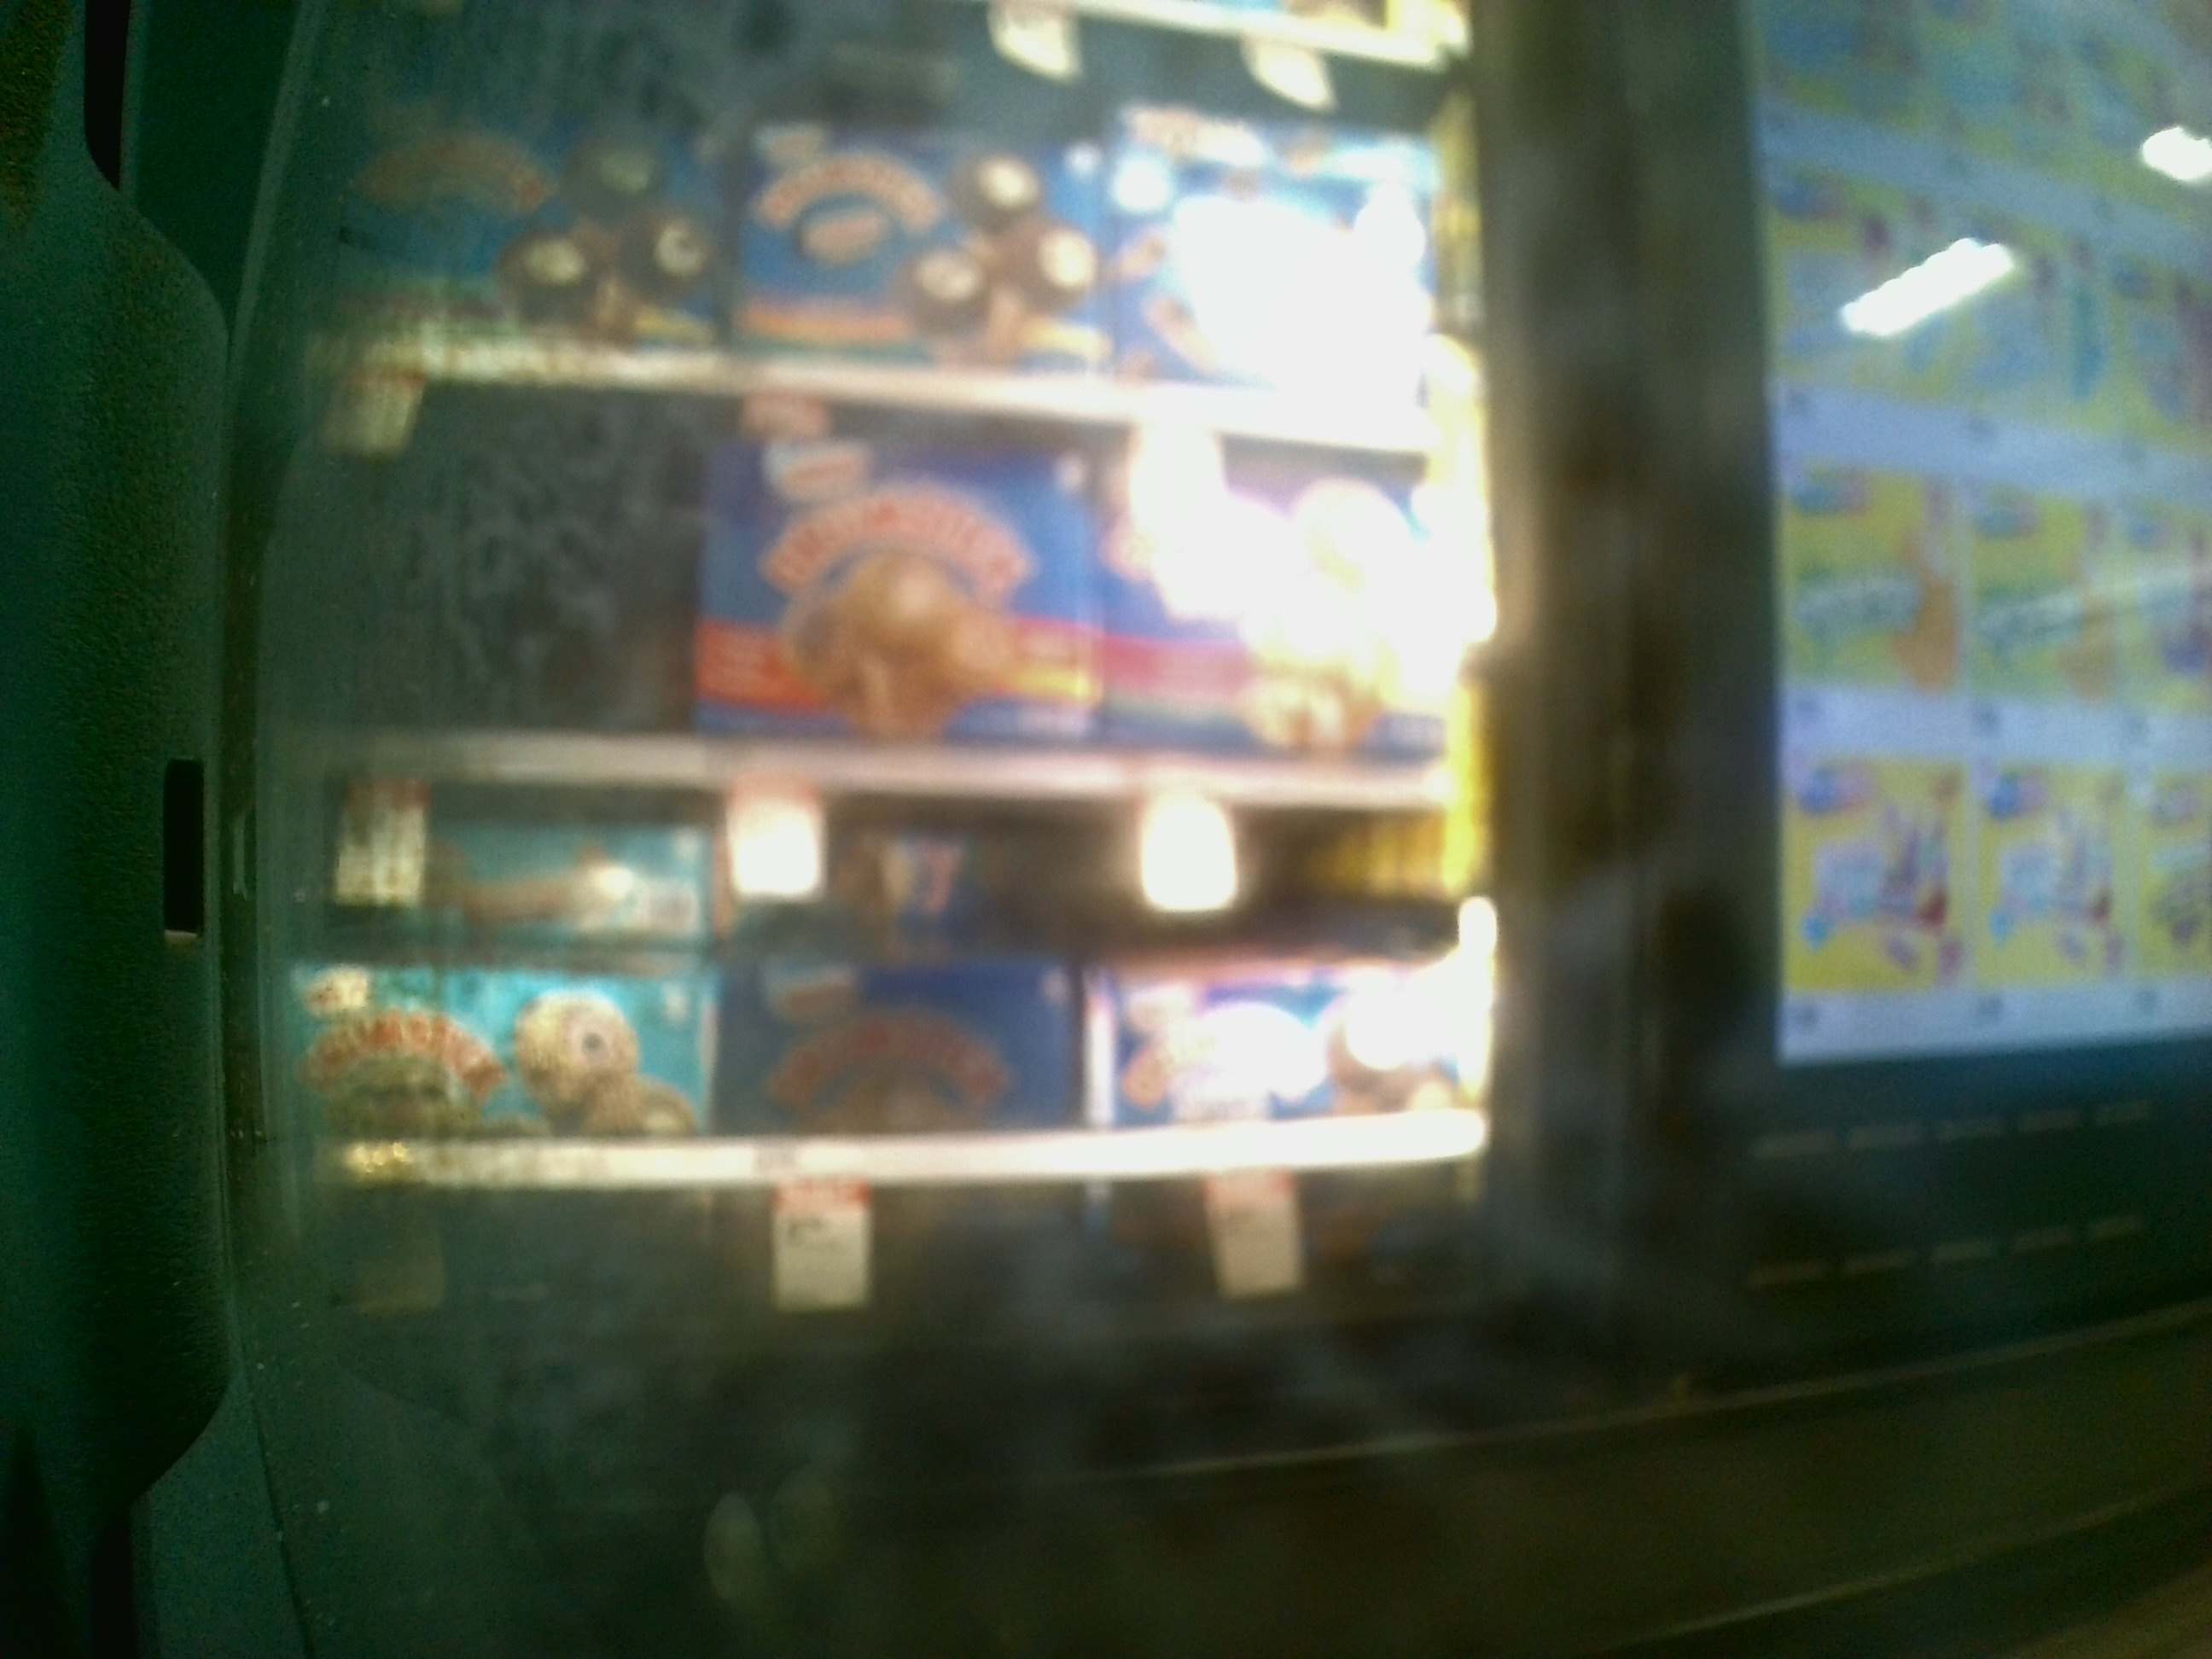shelf: (296, 373, 1501, 788), (294, 791, 1514, 1188)
